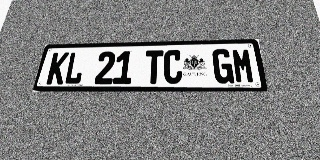1: (113, 51, 134, 84)
2: (94, 51, 116, 84)
C: (163, 50, 182, 84)
G: (212, 49, 234, 84)
K: (46, 52, 69, 84)
L: (63, 52, 86, 84)
M: (231, 48, 256, 83)
T: (144, 50, 163, 84)
